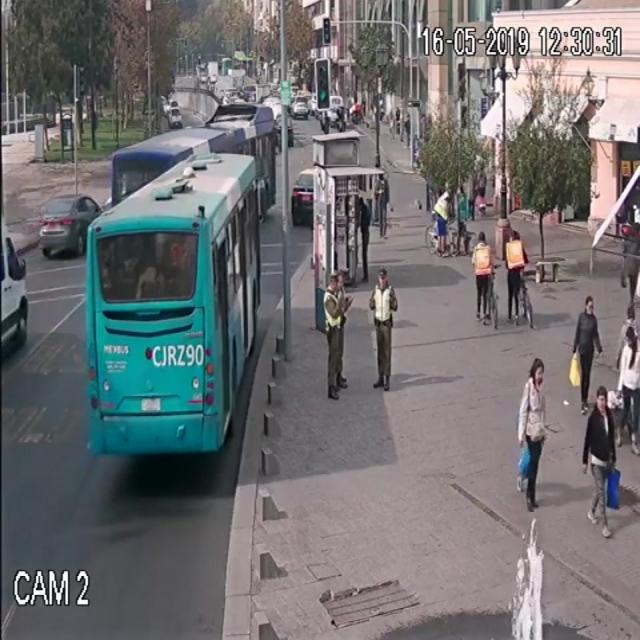AB: (108, 98, 279, 248)
